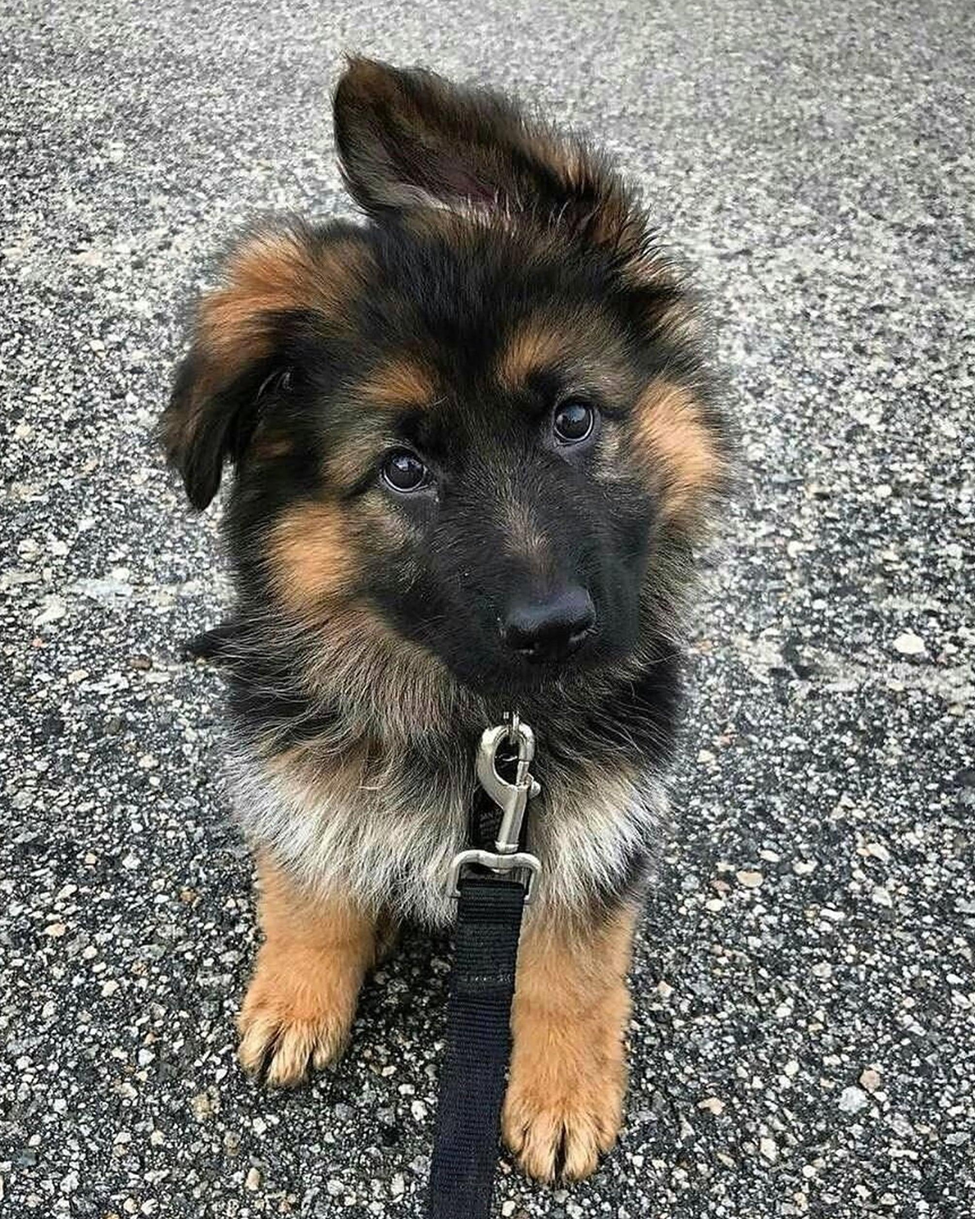german_shepherd: (133, 71, 807, 770)
